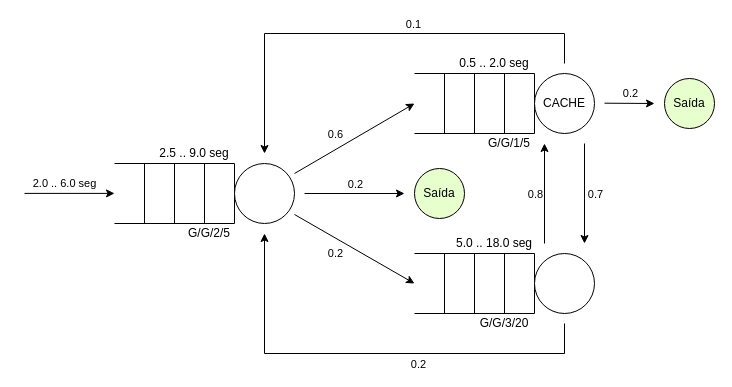
Image size: 732x387. Some labels were removed from this diagram. The box of each missing label's shape, as (x1, y1, x2, y2) in pixels:
API: (534, 252, 594, 314)
APP: (234, 162, 294, 224)
